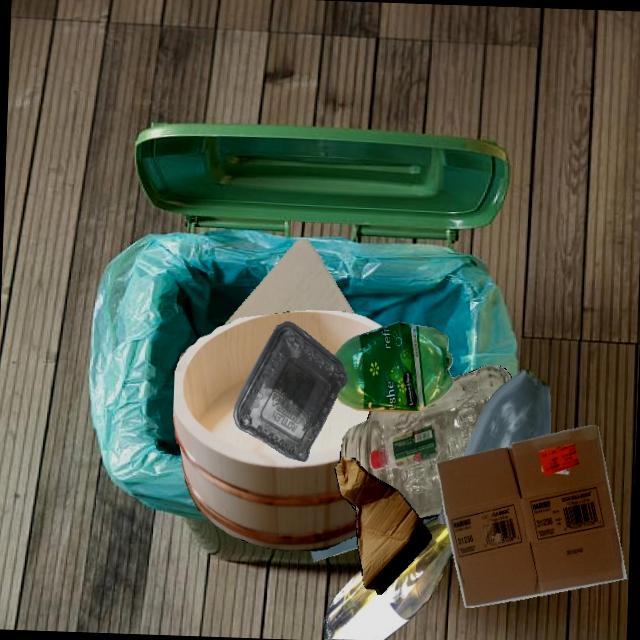cardboard: (436, 424, 626, 607), (334, 456, 431, 594)
combustible waste: (172, 310, 383, 550)
glass: (339, 365, 511, 519), (323, 518, 453, 640), (462, 369, 550, 456)
paper: (224, 238, 354, 325), (310, 534, 357, 561)
plastic: (233, 321, 347, 461), (333, 321, 453, 412), (369, 424, 443, 469), (420, 515, 439, 524)
